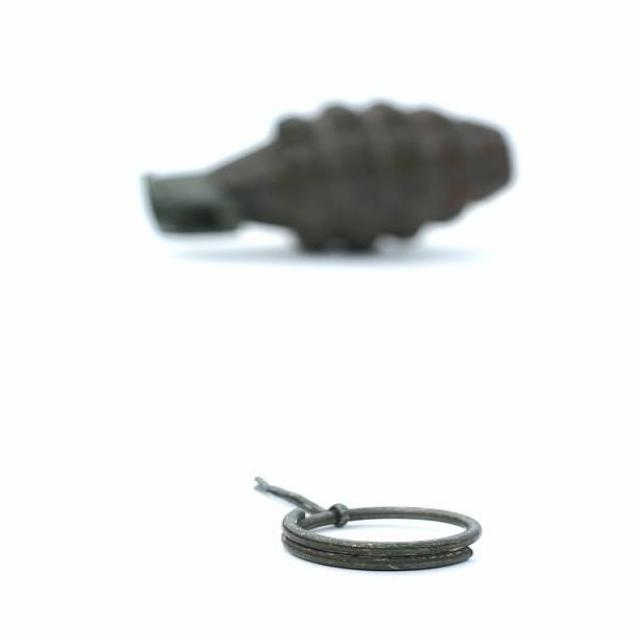grenade: (135, 101, 521, 264)
